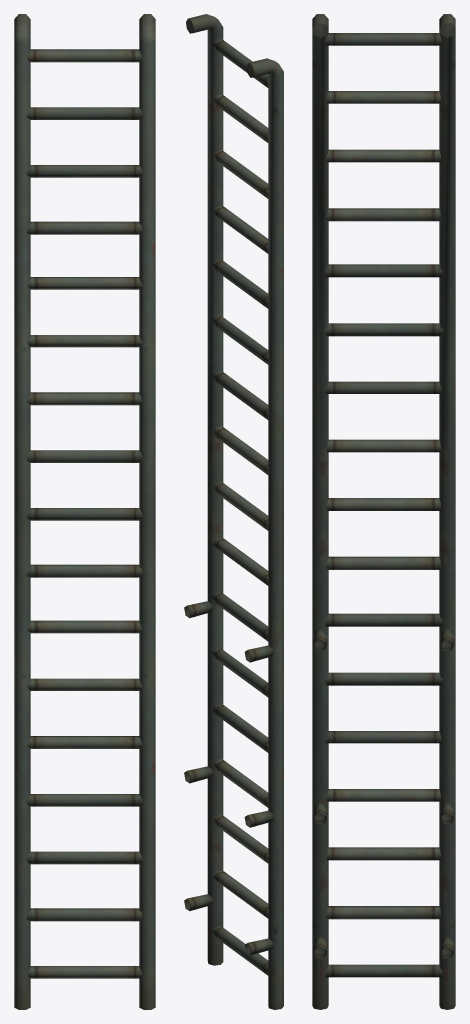
Rendered from Escape.FBX.
The picture shows the model from 3 angles, left to right: view 1: azimuth 90°, elevation 25°; view 2: azimuth 210°, elevation 25°; view 3: azimuth 270°, elevation 25°; orthographic projection. The views are drawn at different scales.
Parts seen in each view (by area): view 1: Escape; view 2: Escape; view 3: Escape.
Boxes of the visible parts, bbox=[...] form: Escape: bbox=[14, 14, 155, 1009]; Escape: bbox=[184, 14, 283, 1009]; Escape: bbox=[312, 14, 455, 1009].
Size of the model in its own units: 0.2658 by 7.04 by 0.9204.
Materials: 1 (1 with a texture image).
